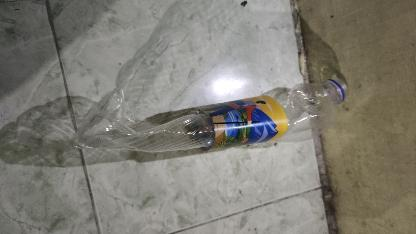Plastic Bottle: (72, 76, 348, 154)
